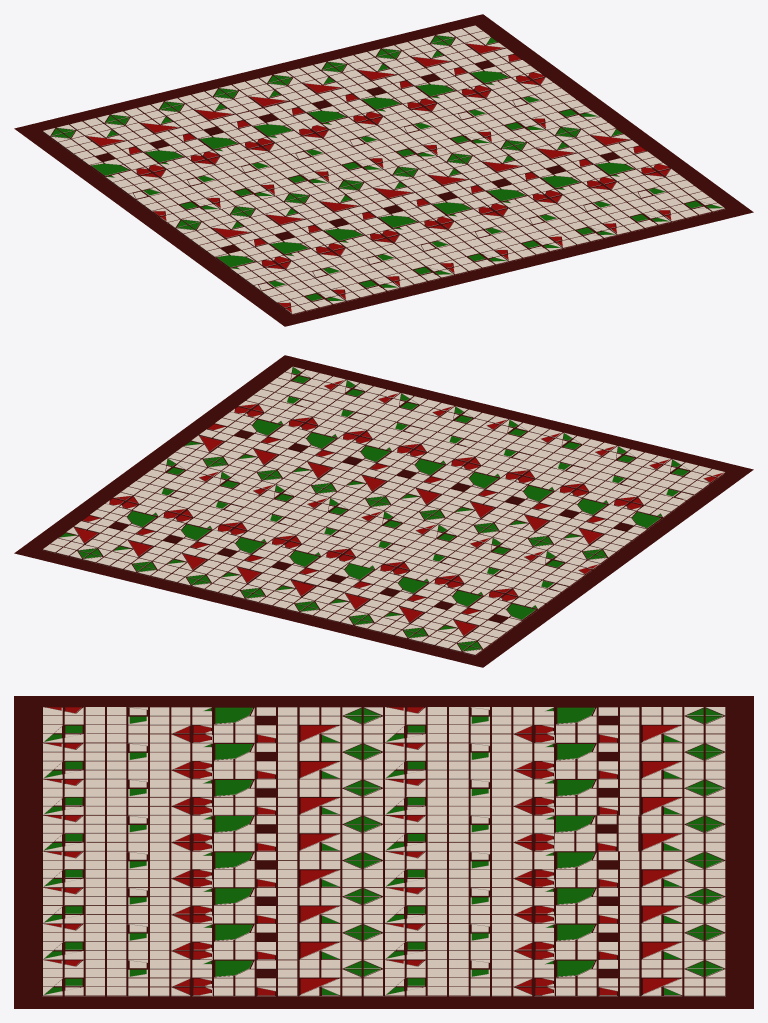
File: floor_1.4.fbx
The picture shows the model from 3 angles, top to bottom: view 1: azimuth 30°, elevation 25°; view 2: azimuth 150°, elevation 25°; view 3: azimuth 270°, elevation 25°; orthographic projection. The views are drawn at different scales.
Parts seen in each view (by area): view 1: pCube78; view 2: pCube78; view 3: pCube78.
Part boxes in pixels (x1=…): pCube78: x1=14, y1=14, x2=753, y2=326; pCube78: x1=14, y1=355, x2=753, y2=667; pCube78: x1=14, y1=696, x2=753, y2=1008.
Bounding box in the file's own units: 51.91 × 0.1827 × 51.92.
